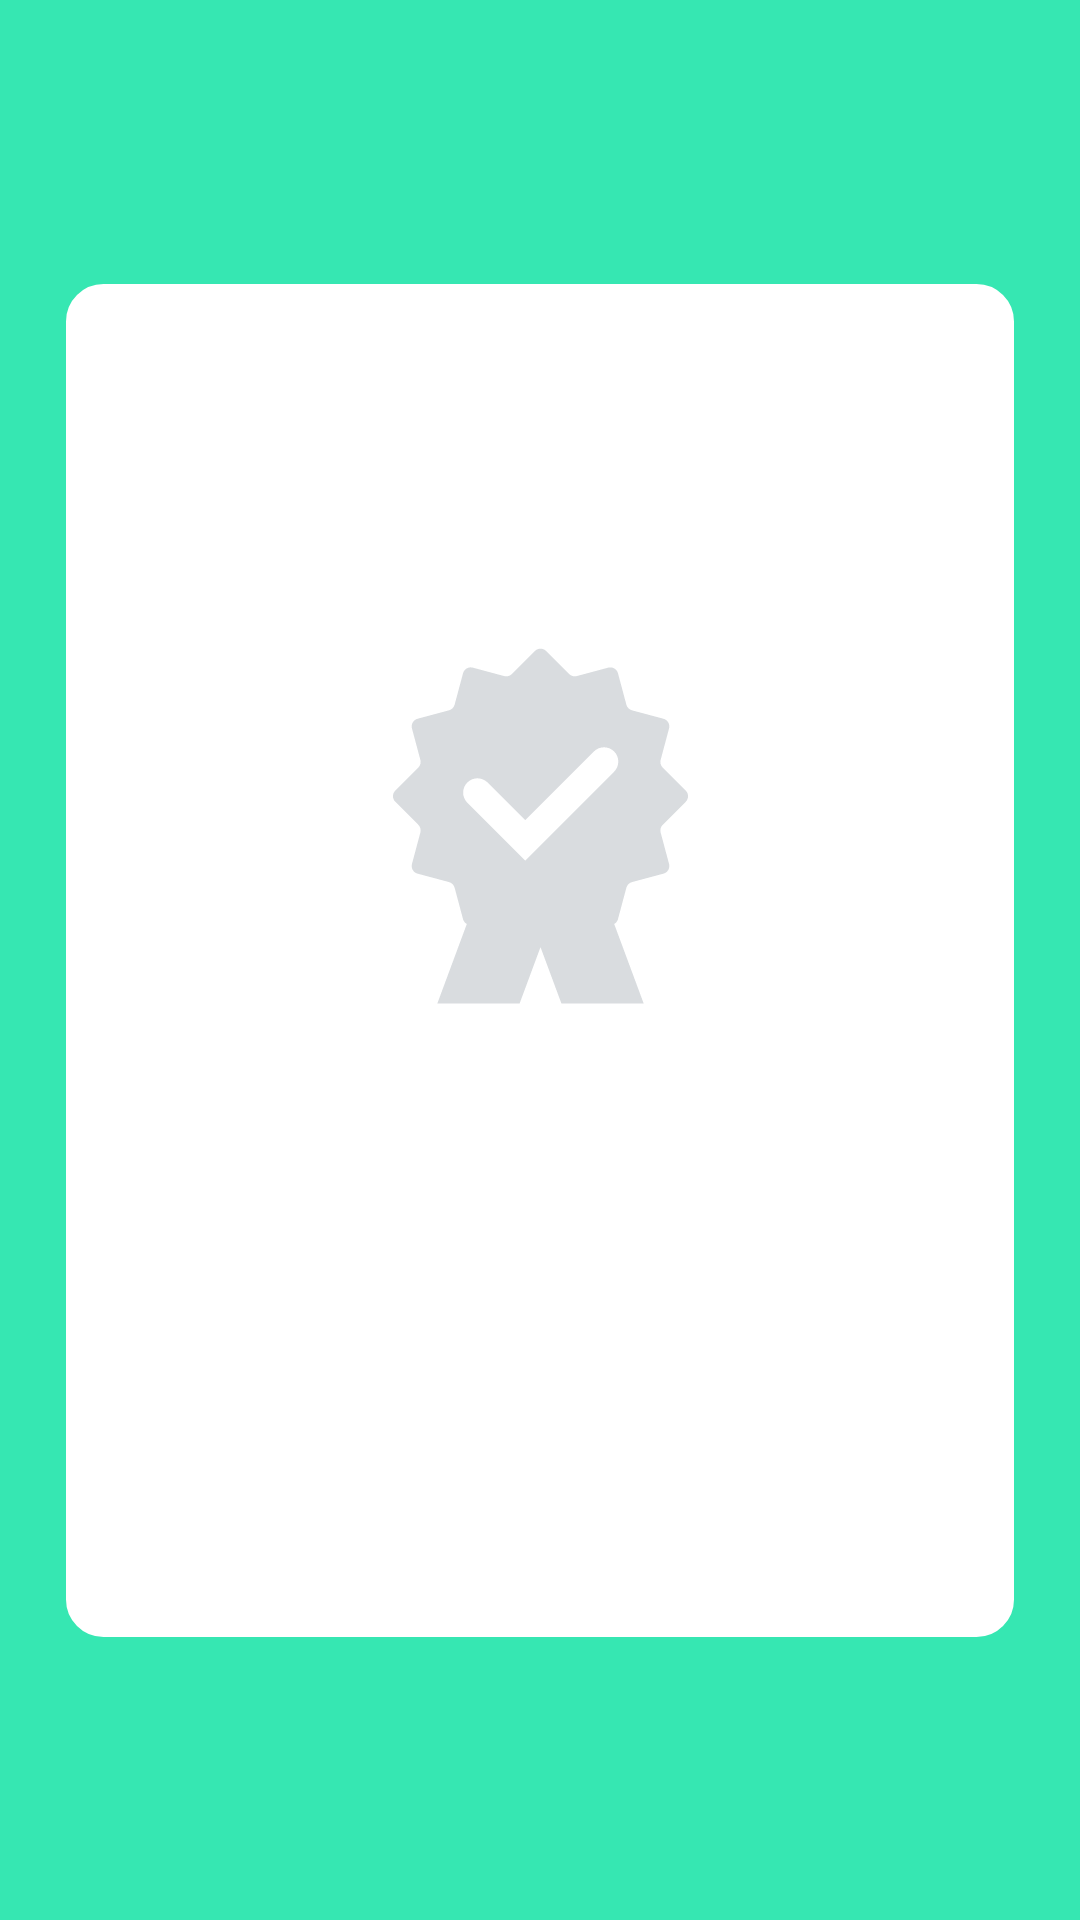

Where to tap for icons on this 1080 x 1920 app screen, as (x,y):
design medalgrey: (540,826)
